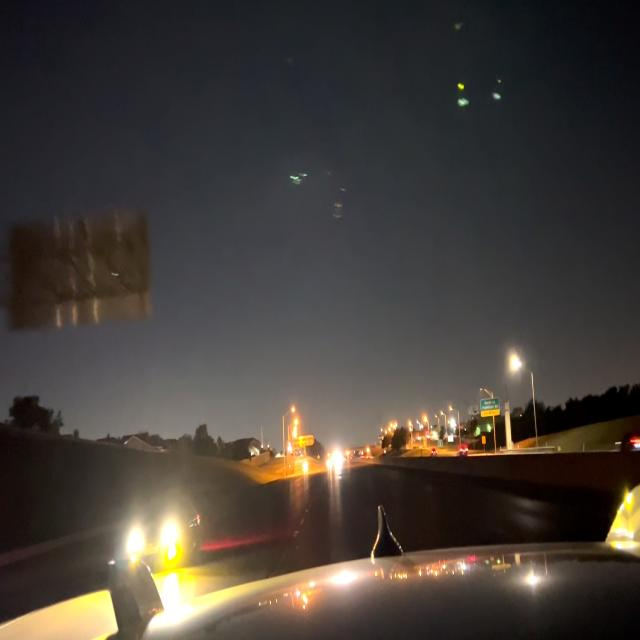back-of-sign: (5, 212, 152, 319)
